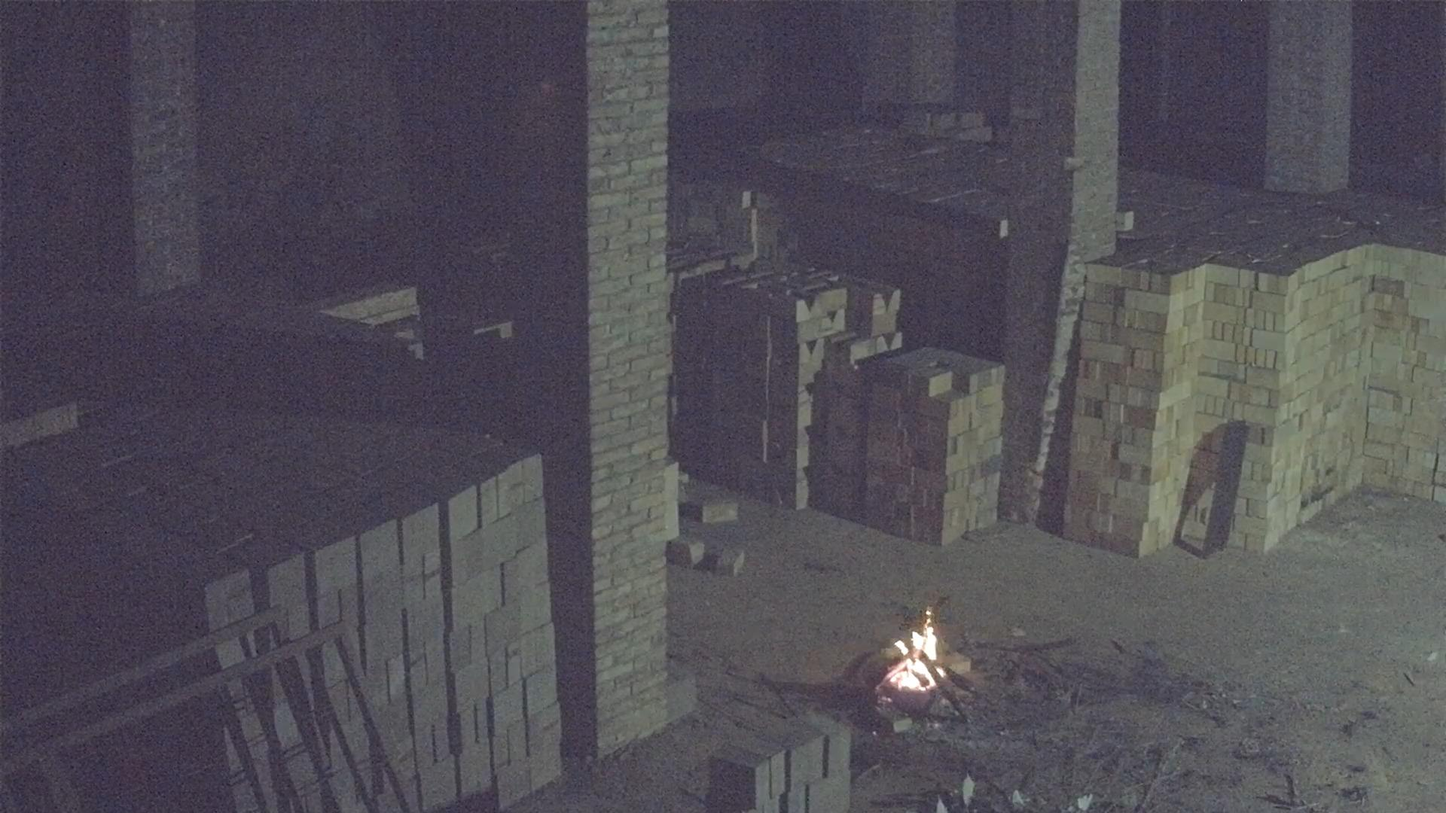fire: (883, 609, 944, 693)
